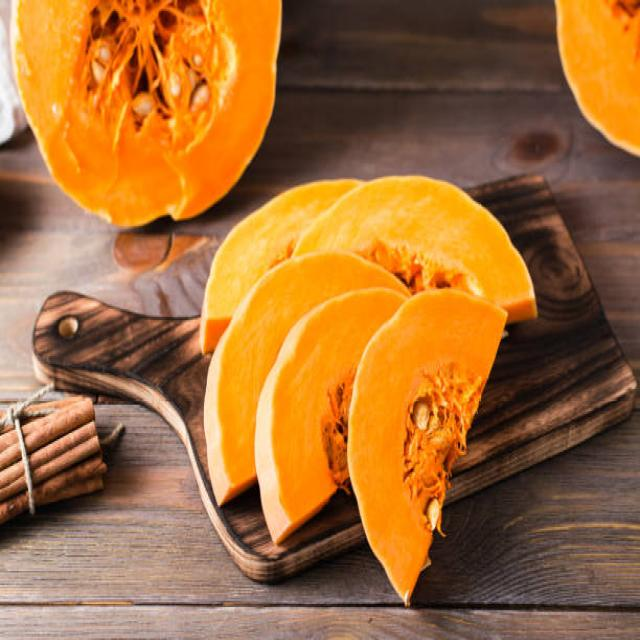Pumpkin: (9, 0, 281, 210), (353, 290, 508, 603), (257, 305, 349, 543), (389, 172, 543, 304)
